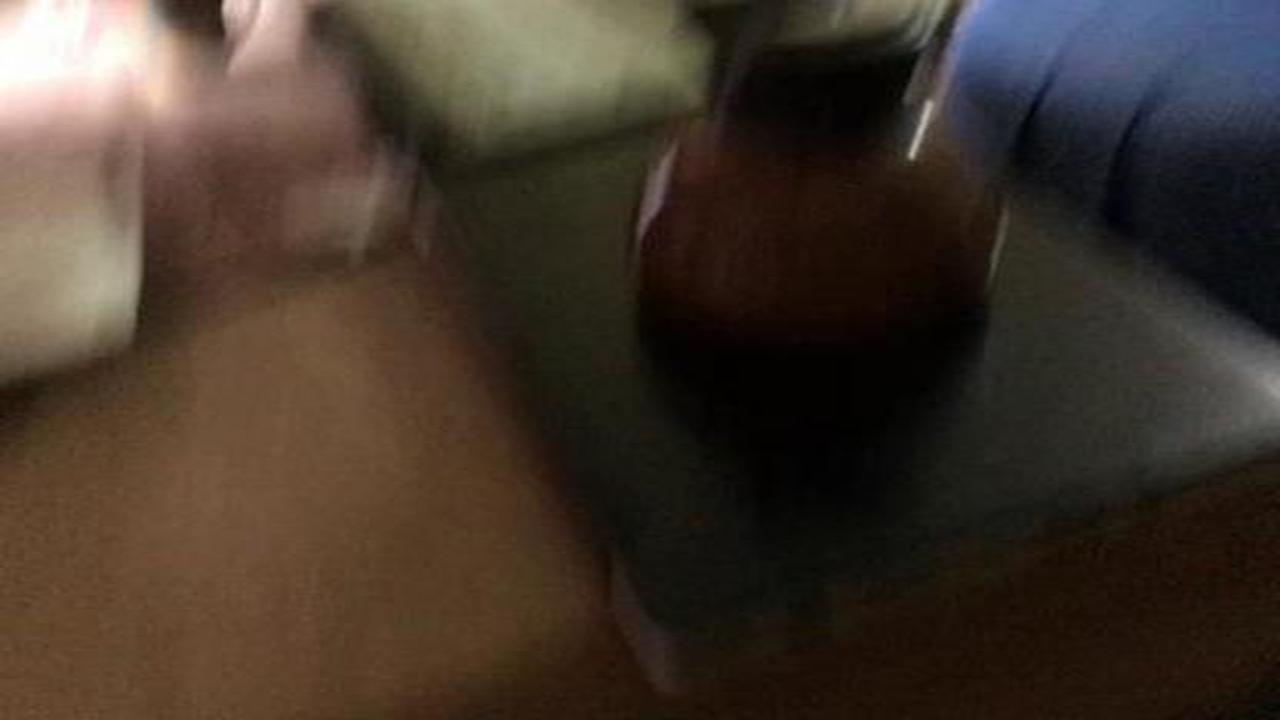insulator_pin: (625, 6, 1016, 369)
